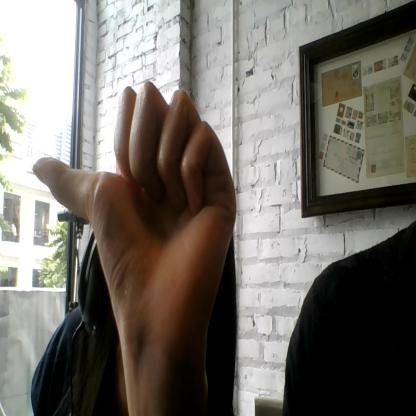right: (31, 80, 236, 345)
